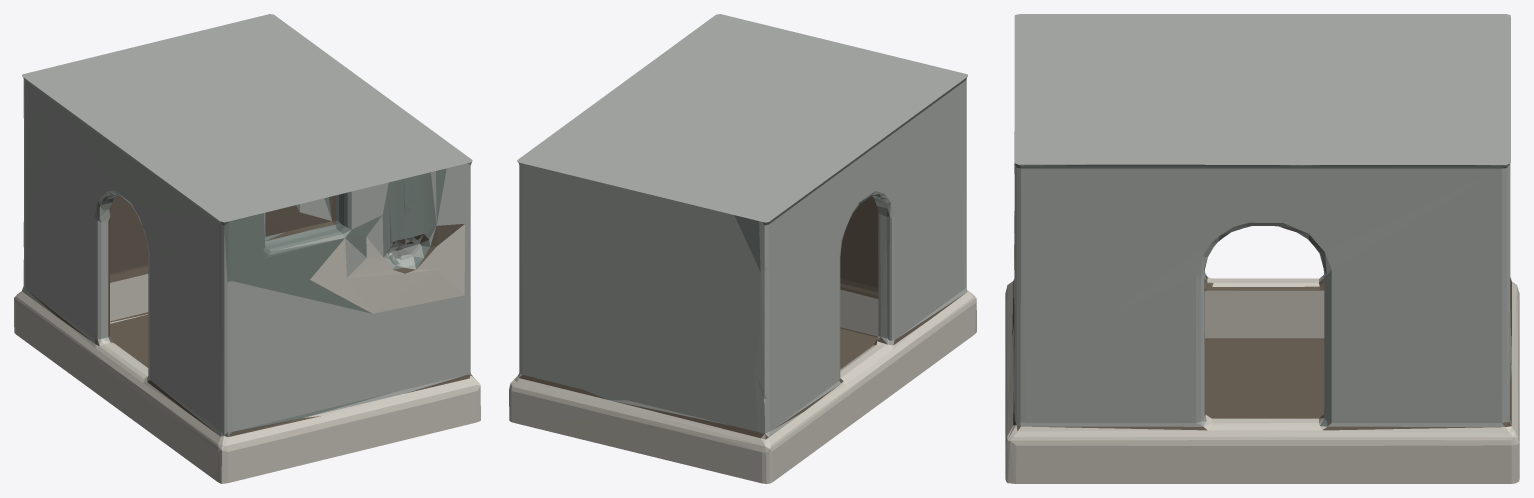
Rendered from etape-1.glb.
The picture shows the model from 3 angles, left to right: view 1: azimuth 30°, elevation 25°; view 2: azimuth 150°, elevation 25°; view 3: azimuth 270°, elevation 25°; orthographic projection. The views are drawn at different scales.
Visible parts, largest first — view 1: geometry_0; view 2: geometry_0; view 3: geometry_0.
Part boxes in pixels (x1,y1,x2,y2): geometry_0: (14, 14, 480, 483); geometry_0: (509, 14, 976, 483); geometry_0: (1005, 14, 1519, 483).
Bounding box in the file's own units: 0.5938 × 0.5586 × 0.8232.
